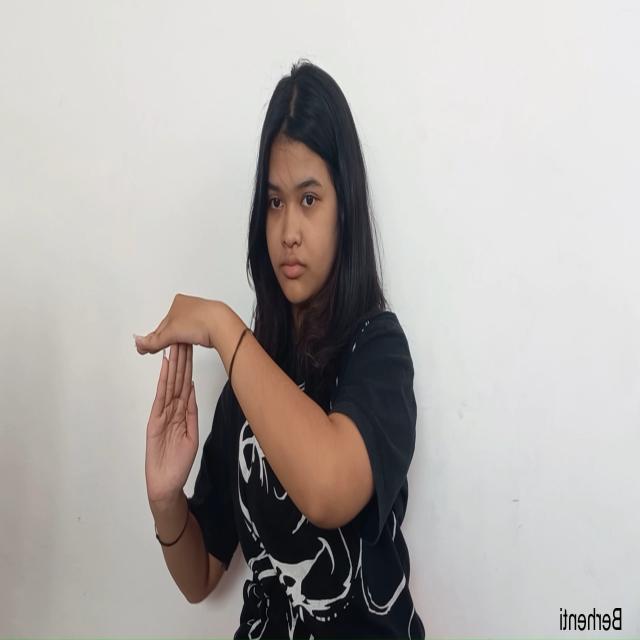Berhenti -BISINDO-: (131, 289, 225, 518)
